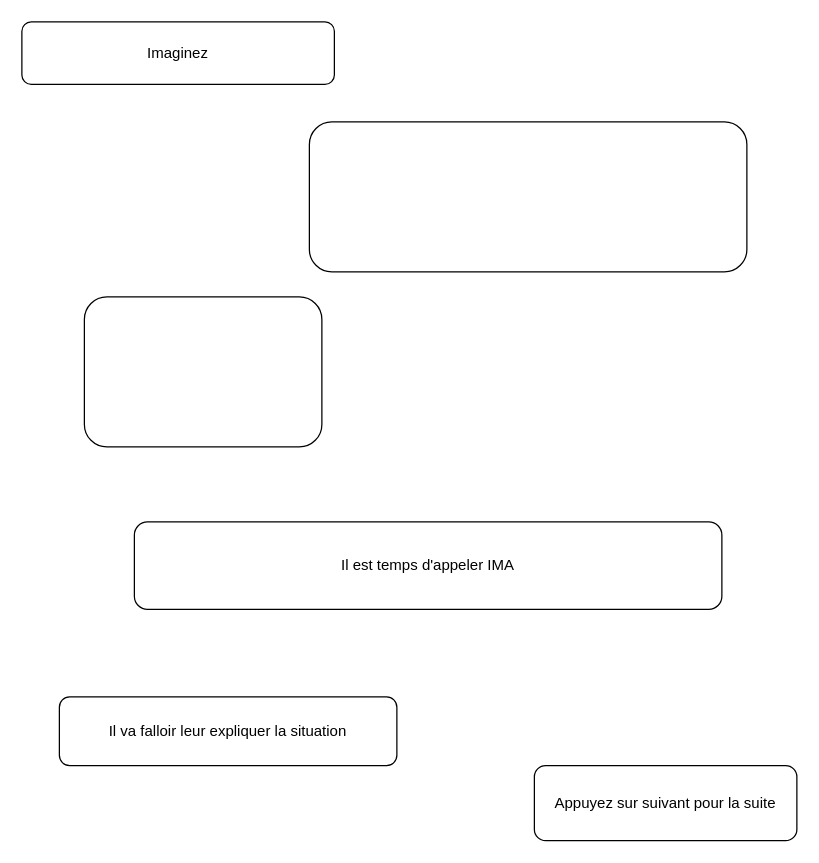
The diagram is 819 pixels wide and 863 high, and some of its shapes have lost their labels. Each missing label, with the centre of its shape:
Image situation: point (202, 371)
Vous êtes sur la route des vacances quand soudain: point (527, 196)
